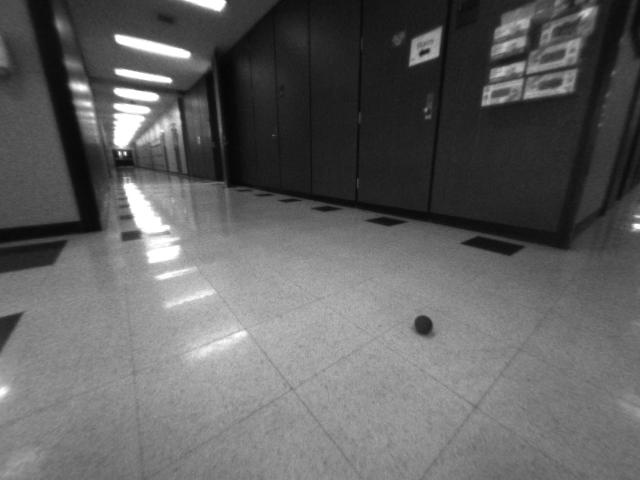dogtoy: (409, 311, 439, 338)
